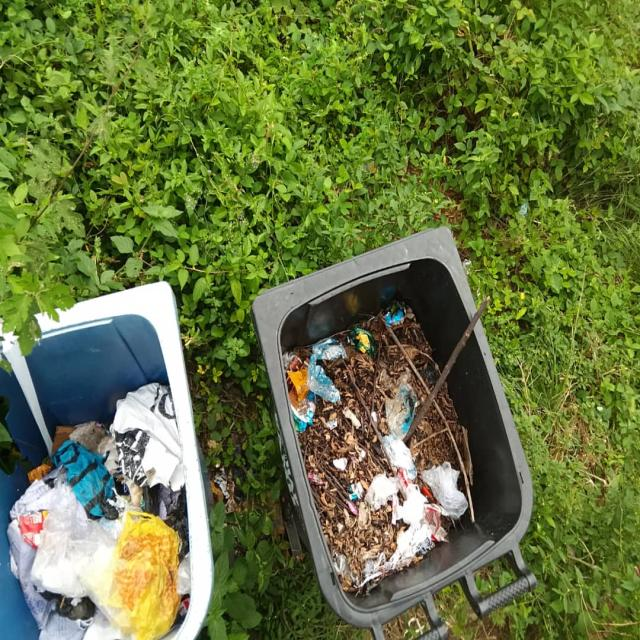half-full: (280, 241, 520, 604), (0, 300, 205, 640)
